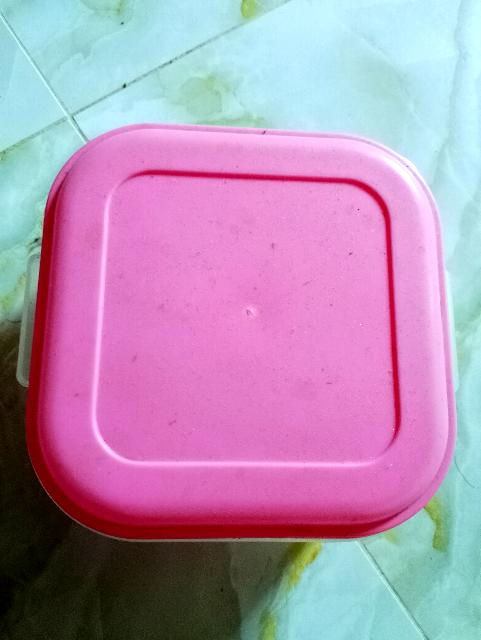hardplastic: (18, 111, 481, 556)
